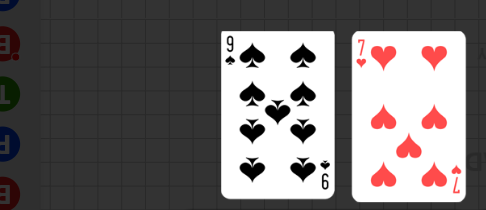7H: (450, 163, 462, 195)
9S: (224, 34, 237, 67)
